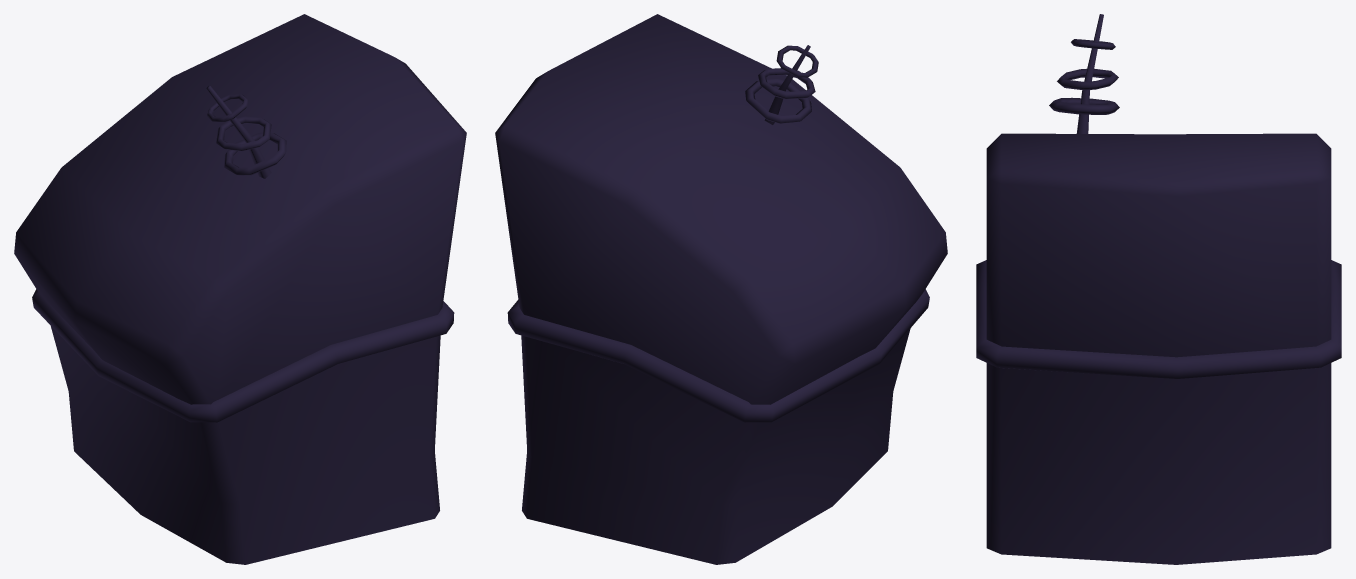
Rendered from Back_Bldg02_Mesh.FBX.
3 views of the same model, side by side, from view 1: azimuth 30°, elevation 25°; view 2: azimuth 150°, elevation 25°; view 3: azimuth 270°, elevation 25° (orthographic). The views are drawn at different scales.
Parts seen in each view (by area): view 1: Back_Bldg02_Mesh; view 2: Back_Bldg02_Mesh; view 3: Back_Bldg02_Mesh.
Boxes of the visible parts, box(x1,y1,x2,y2) form: Back_Bldg02_Mesh: box(14, 14, 466, 564); Back_Bldg02_Mesh: box(495, 14, 947, 564); Back_Bldg02_Mesh: box(976, 14, 1341, 564).
Bounding box in the file's own units: 3441 × 4067 × 3002.
